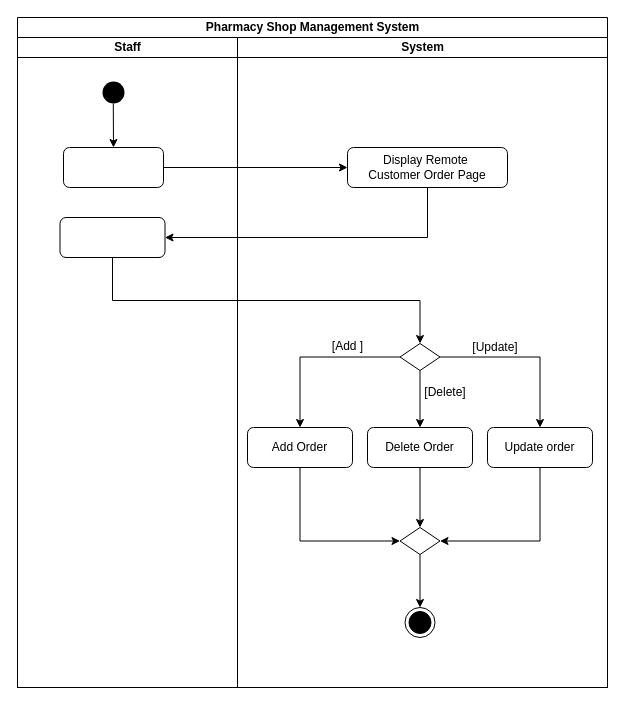
Image size: 625x705. Some labels were removed from this diagram. Here are the shapes that lost their labels. From the top down, the centre of each, then its label:
the point at 113,167: Click Remote Customer Order
the point at 112,237: Select Option
